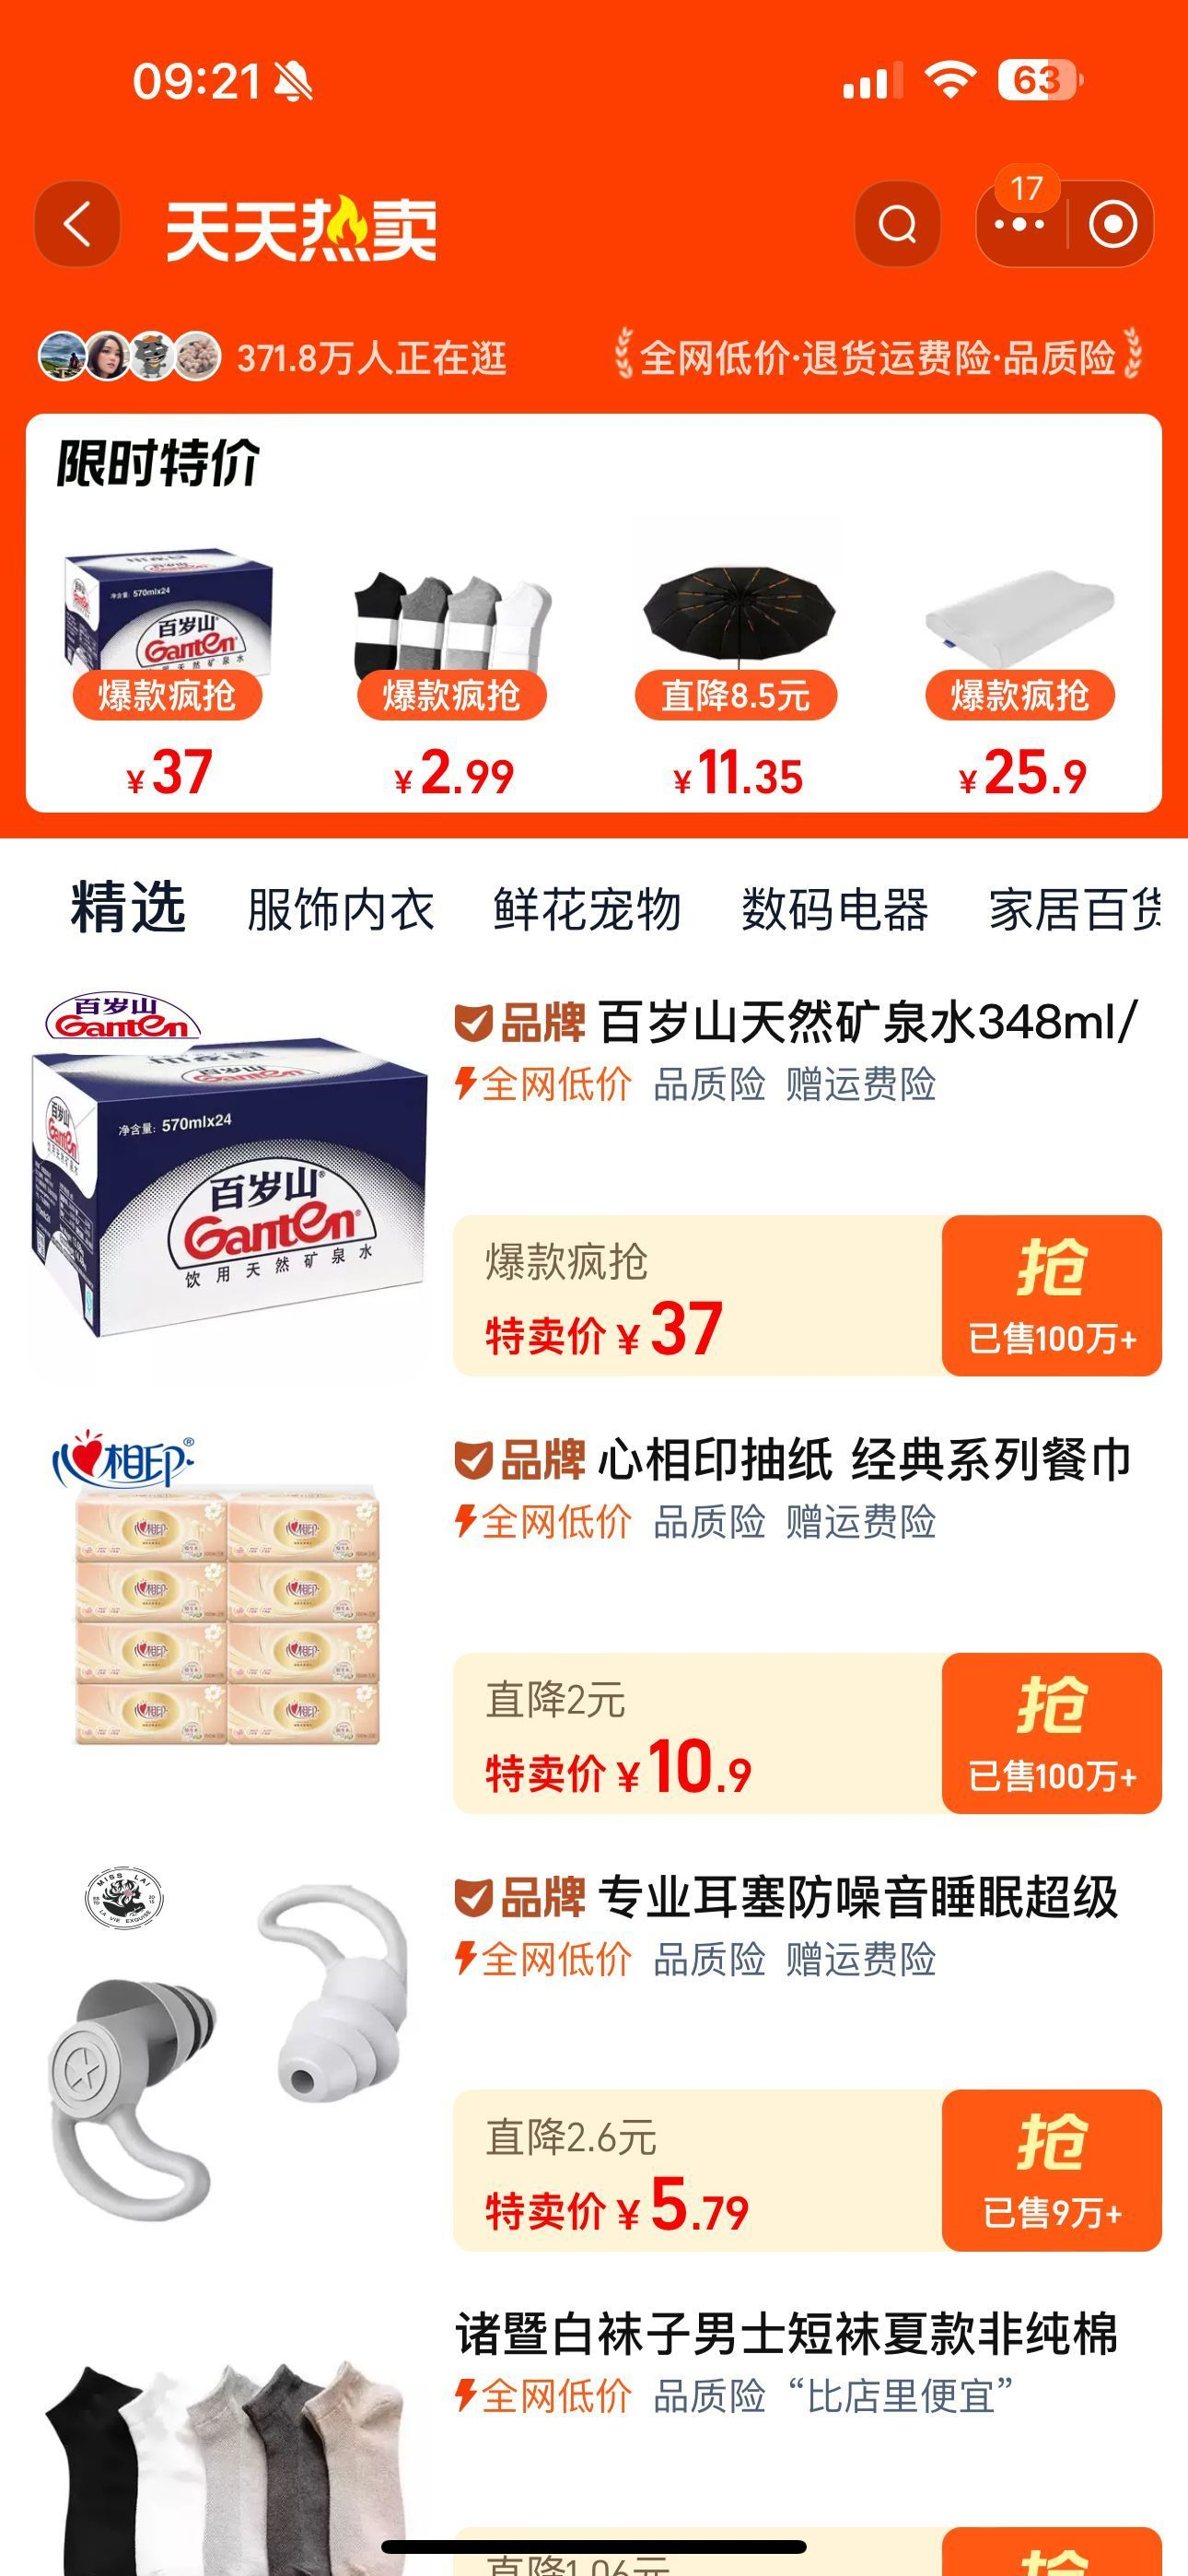item: (2, 1396, 1185, 1845), (7, 950, 1186, 1390), (2, 1851, 1186, 2275)
op_bar: (7, 146, 1188, 304)
seckill: (7, 393, 1188, 831)
